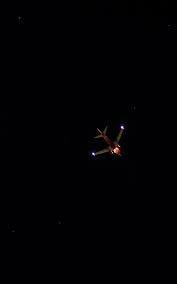Plane: (76, 104, 145, 174)
